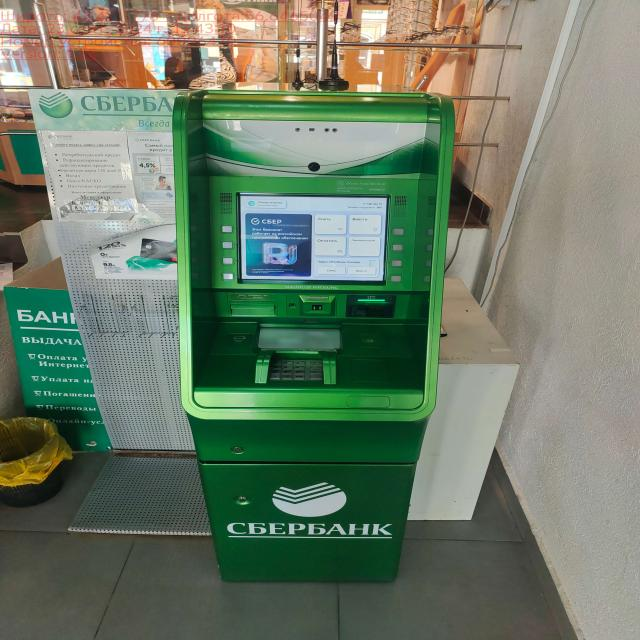bank: (169, 84, 460, 586)
